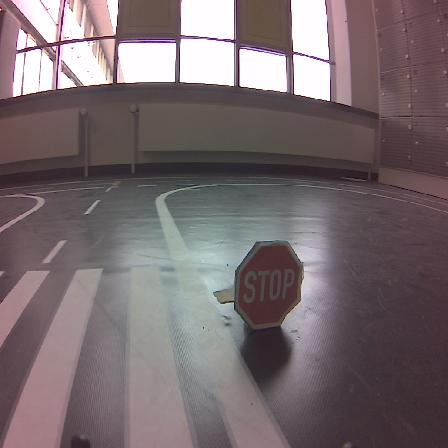STOP: (234, 241, 303, 329)
